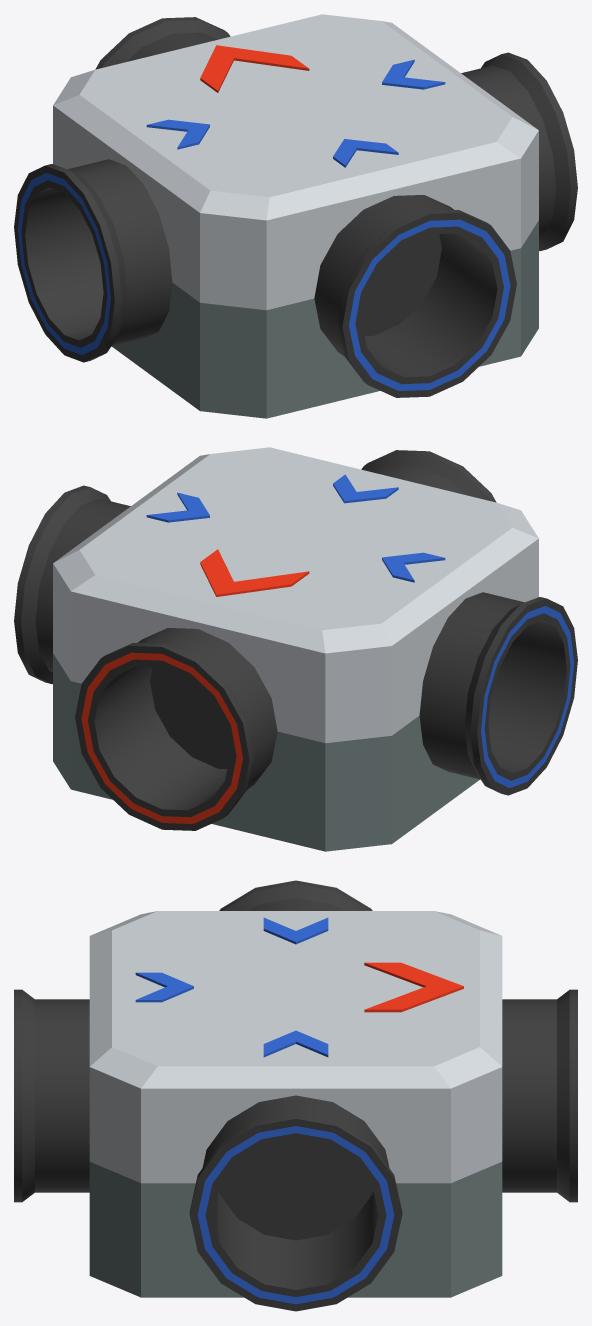
File: m_Dev_Merger.fbx
The picture shows the model from 3 angles, top to bottom: view 1: azimuth 30°, elevation 25°; view 2: azimuth 150°, elevation 25°; view 3: azimuth 270°, elevation 25°; orthographic projection. The views are drawn at different scales.
Visible parts, largest first — view 1: Merger; view 2: Merger; view 3: Merger.
Part boxes in pixels (x1=…): Merger: x1=14, y1=14, x2=577, y2=418; Merger: x1=14, y1=447, x2=577, y2=851; Merger: x1=14, y1=880, x2=577, y2=1311.
Bounding box in the file's own units: 100 × 43.85 × 100.
